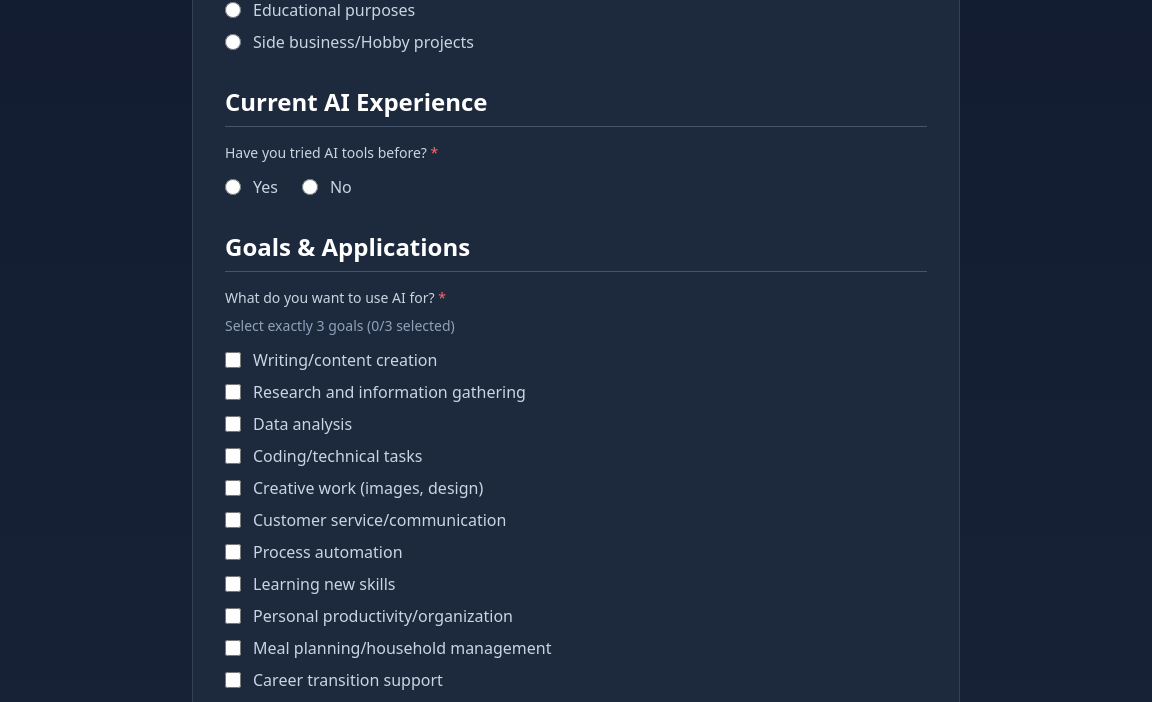
Register Component - Extended Form › Goals Section › disables additional checkboxes when 3 goals are selected
(page scrolled)
// Select 3 goals
Click the checkbox labelled "Writing/content creation".
click(233, 360)  # box [225,352,241,368]
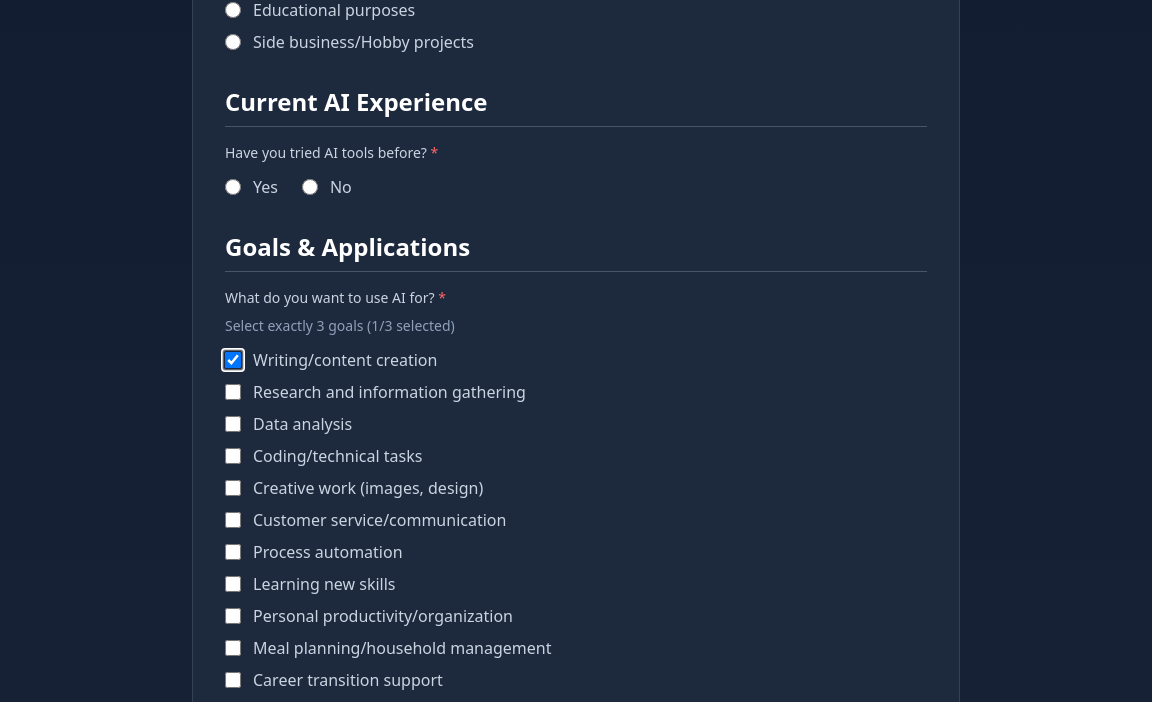
Click the checkbox labelled "Research and information gathering".
click(233, 392)  # box [225,384,241,400]
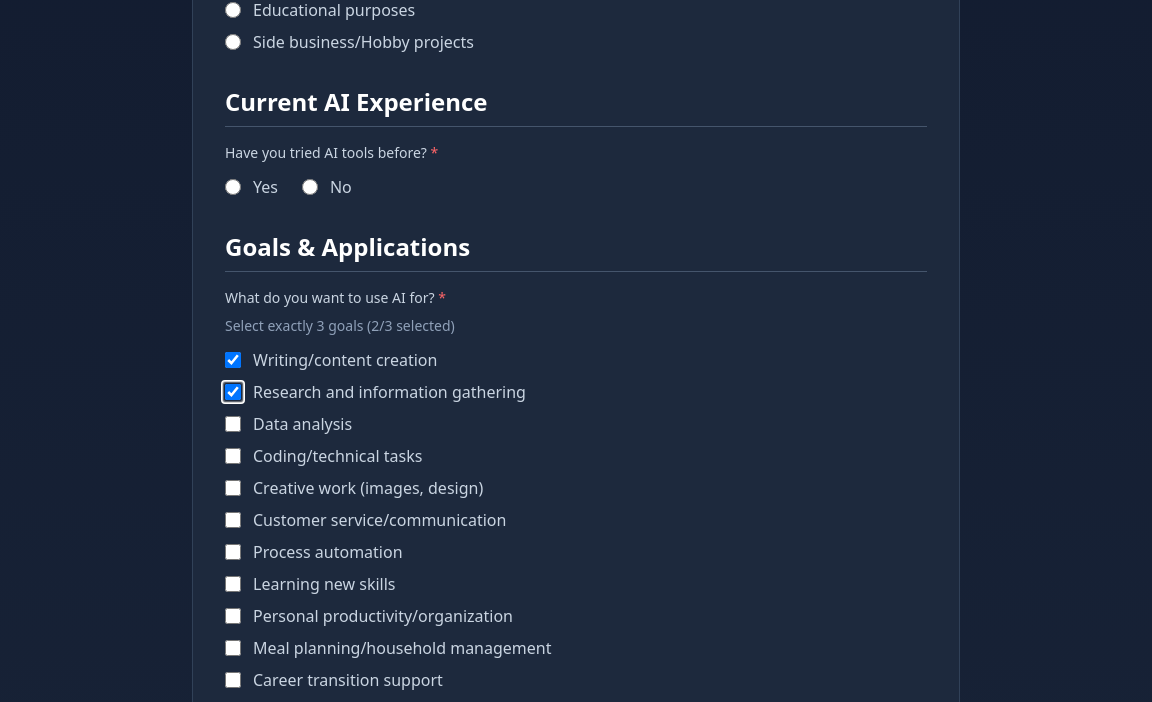
Click the checkbox labelled "Data analysis".
click(233, 424)  # box [225,416,241,432]
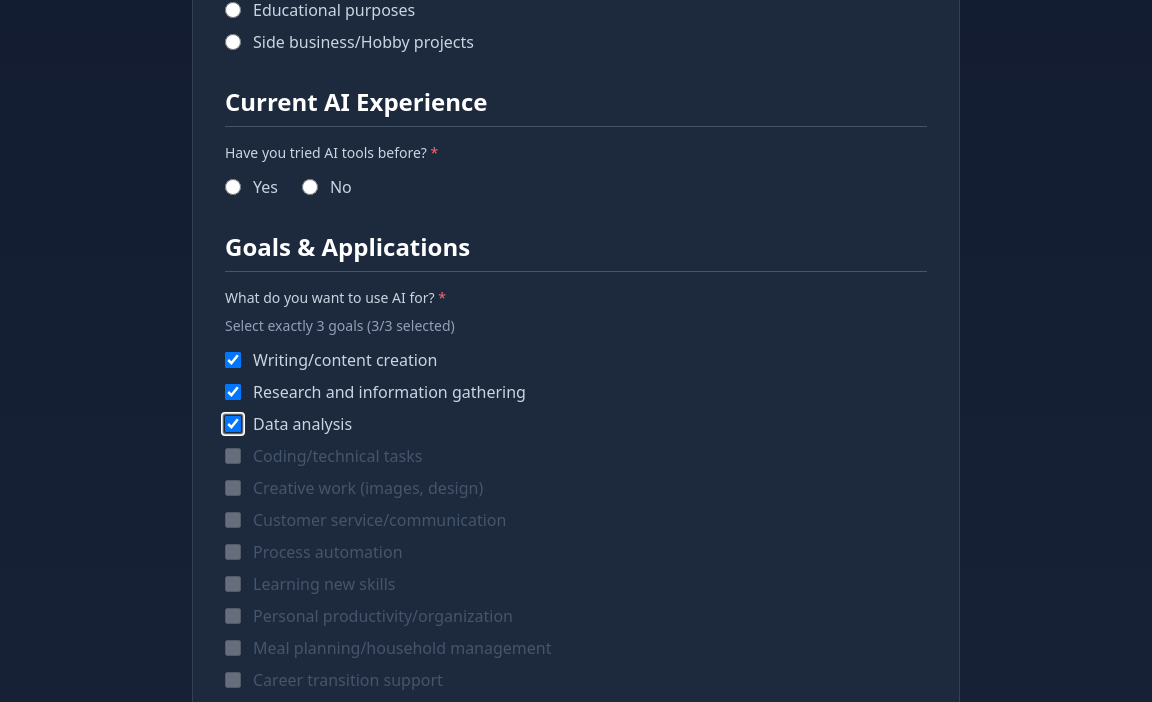
Result: the text "Select exactly 3 goals (3/3 selected)" is shown at [225,316,455,335]
Result: the checkbox labelled "Coding/technical tasks" is disabled at [225,448,241,464]
